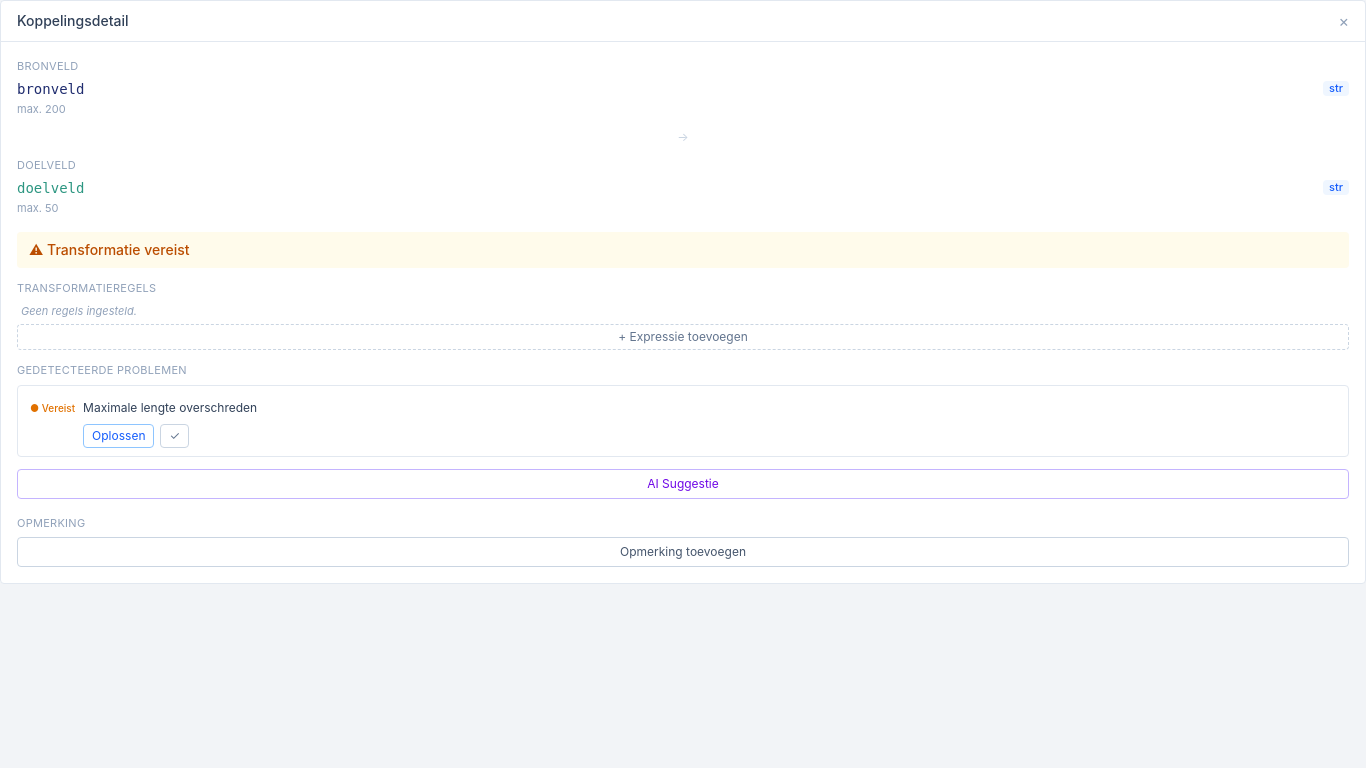
CouplingDetailPanel — rule list › adds a manual rule when a valid JSONata expression is entered and saved
Click the button with test id "add-expression-btn". click: [683, 337]
box: [17, 324, 1349, 350]
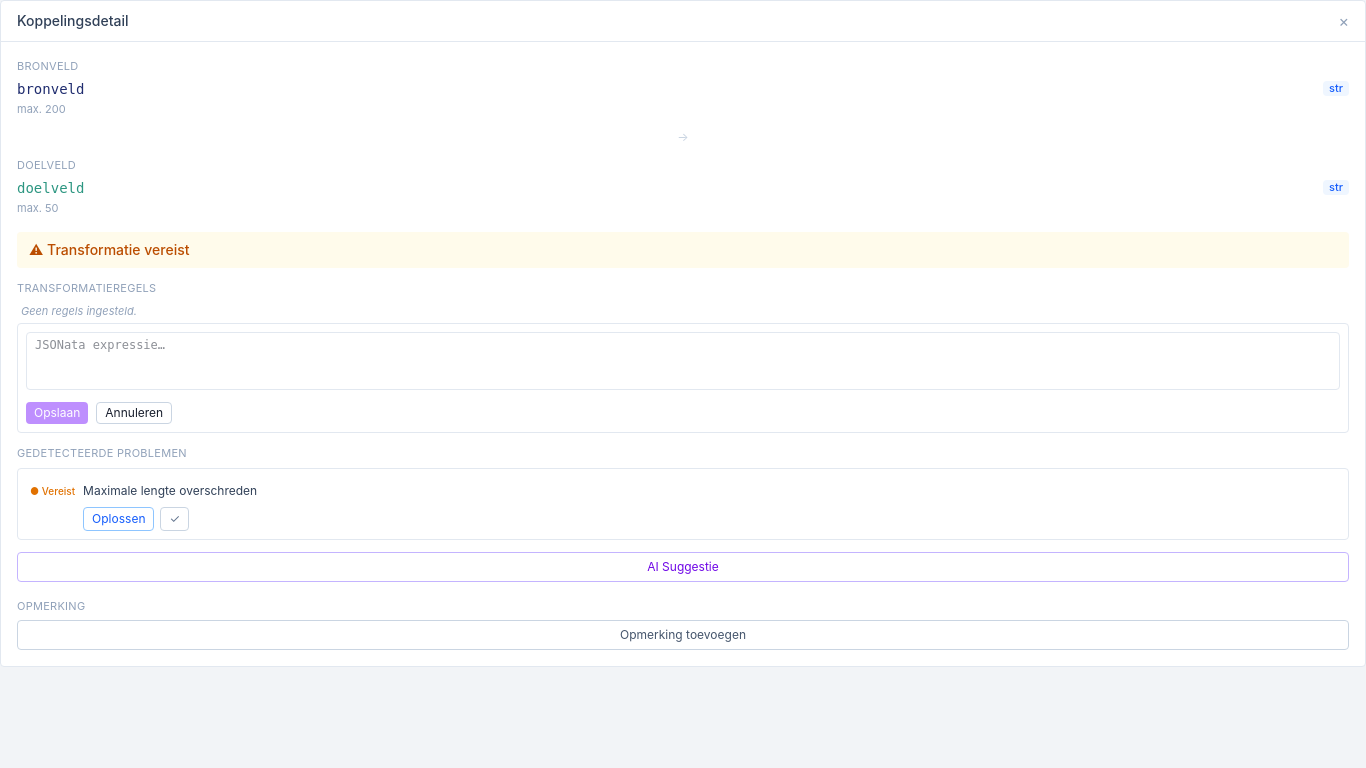
Type "$uppercase($)" into the text box with test id "expression-input". click: [683, 361]
box: [26, 332, 1340, 390]
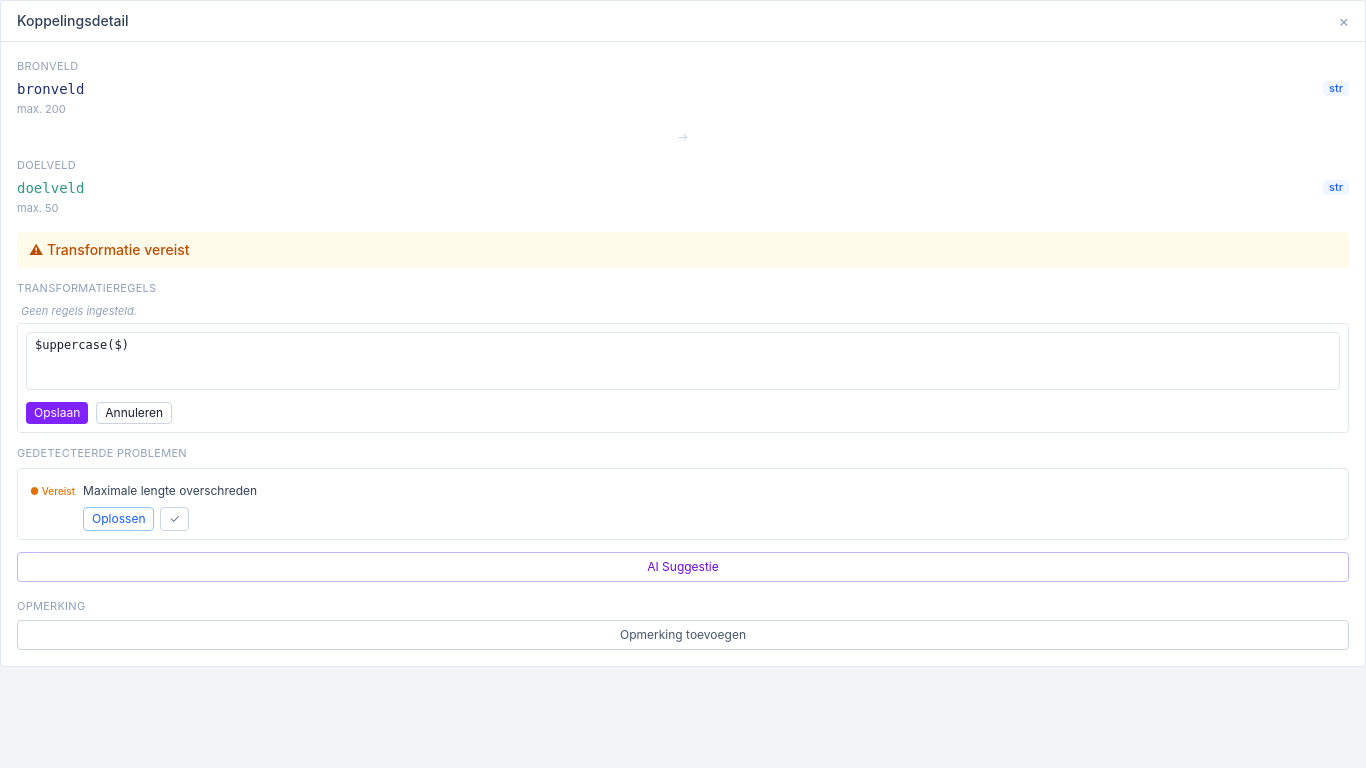
Click the button with test id "expression-save-btn". click: [57, 413]
box: [26, 402, 88, 424]
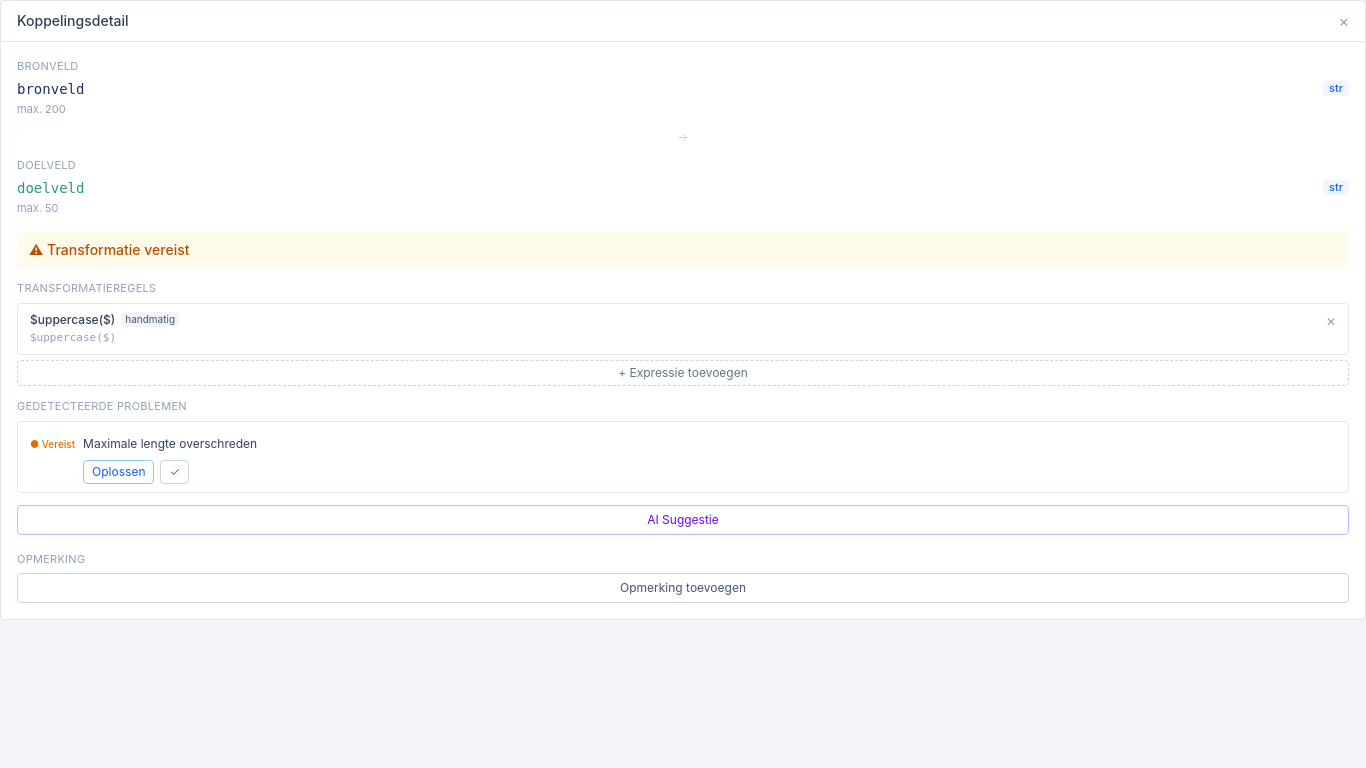
Check: the text "$uppercase($)" next to "handmatig" is shown, box [30, 312, 115, 326]
